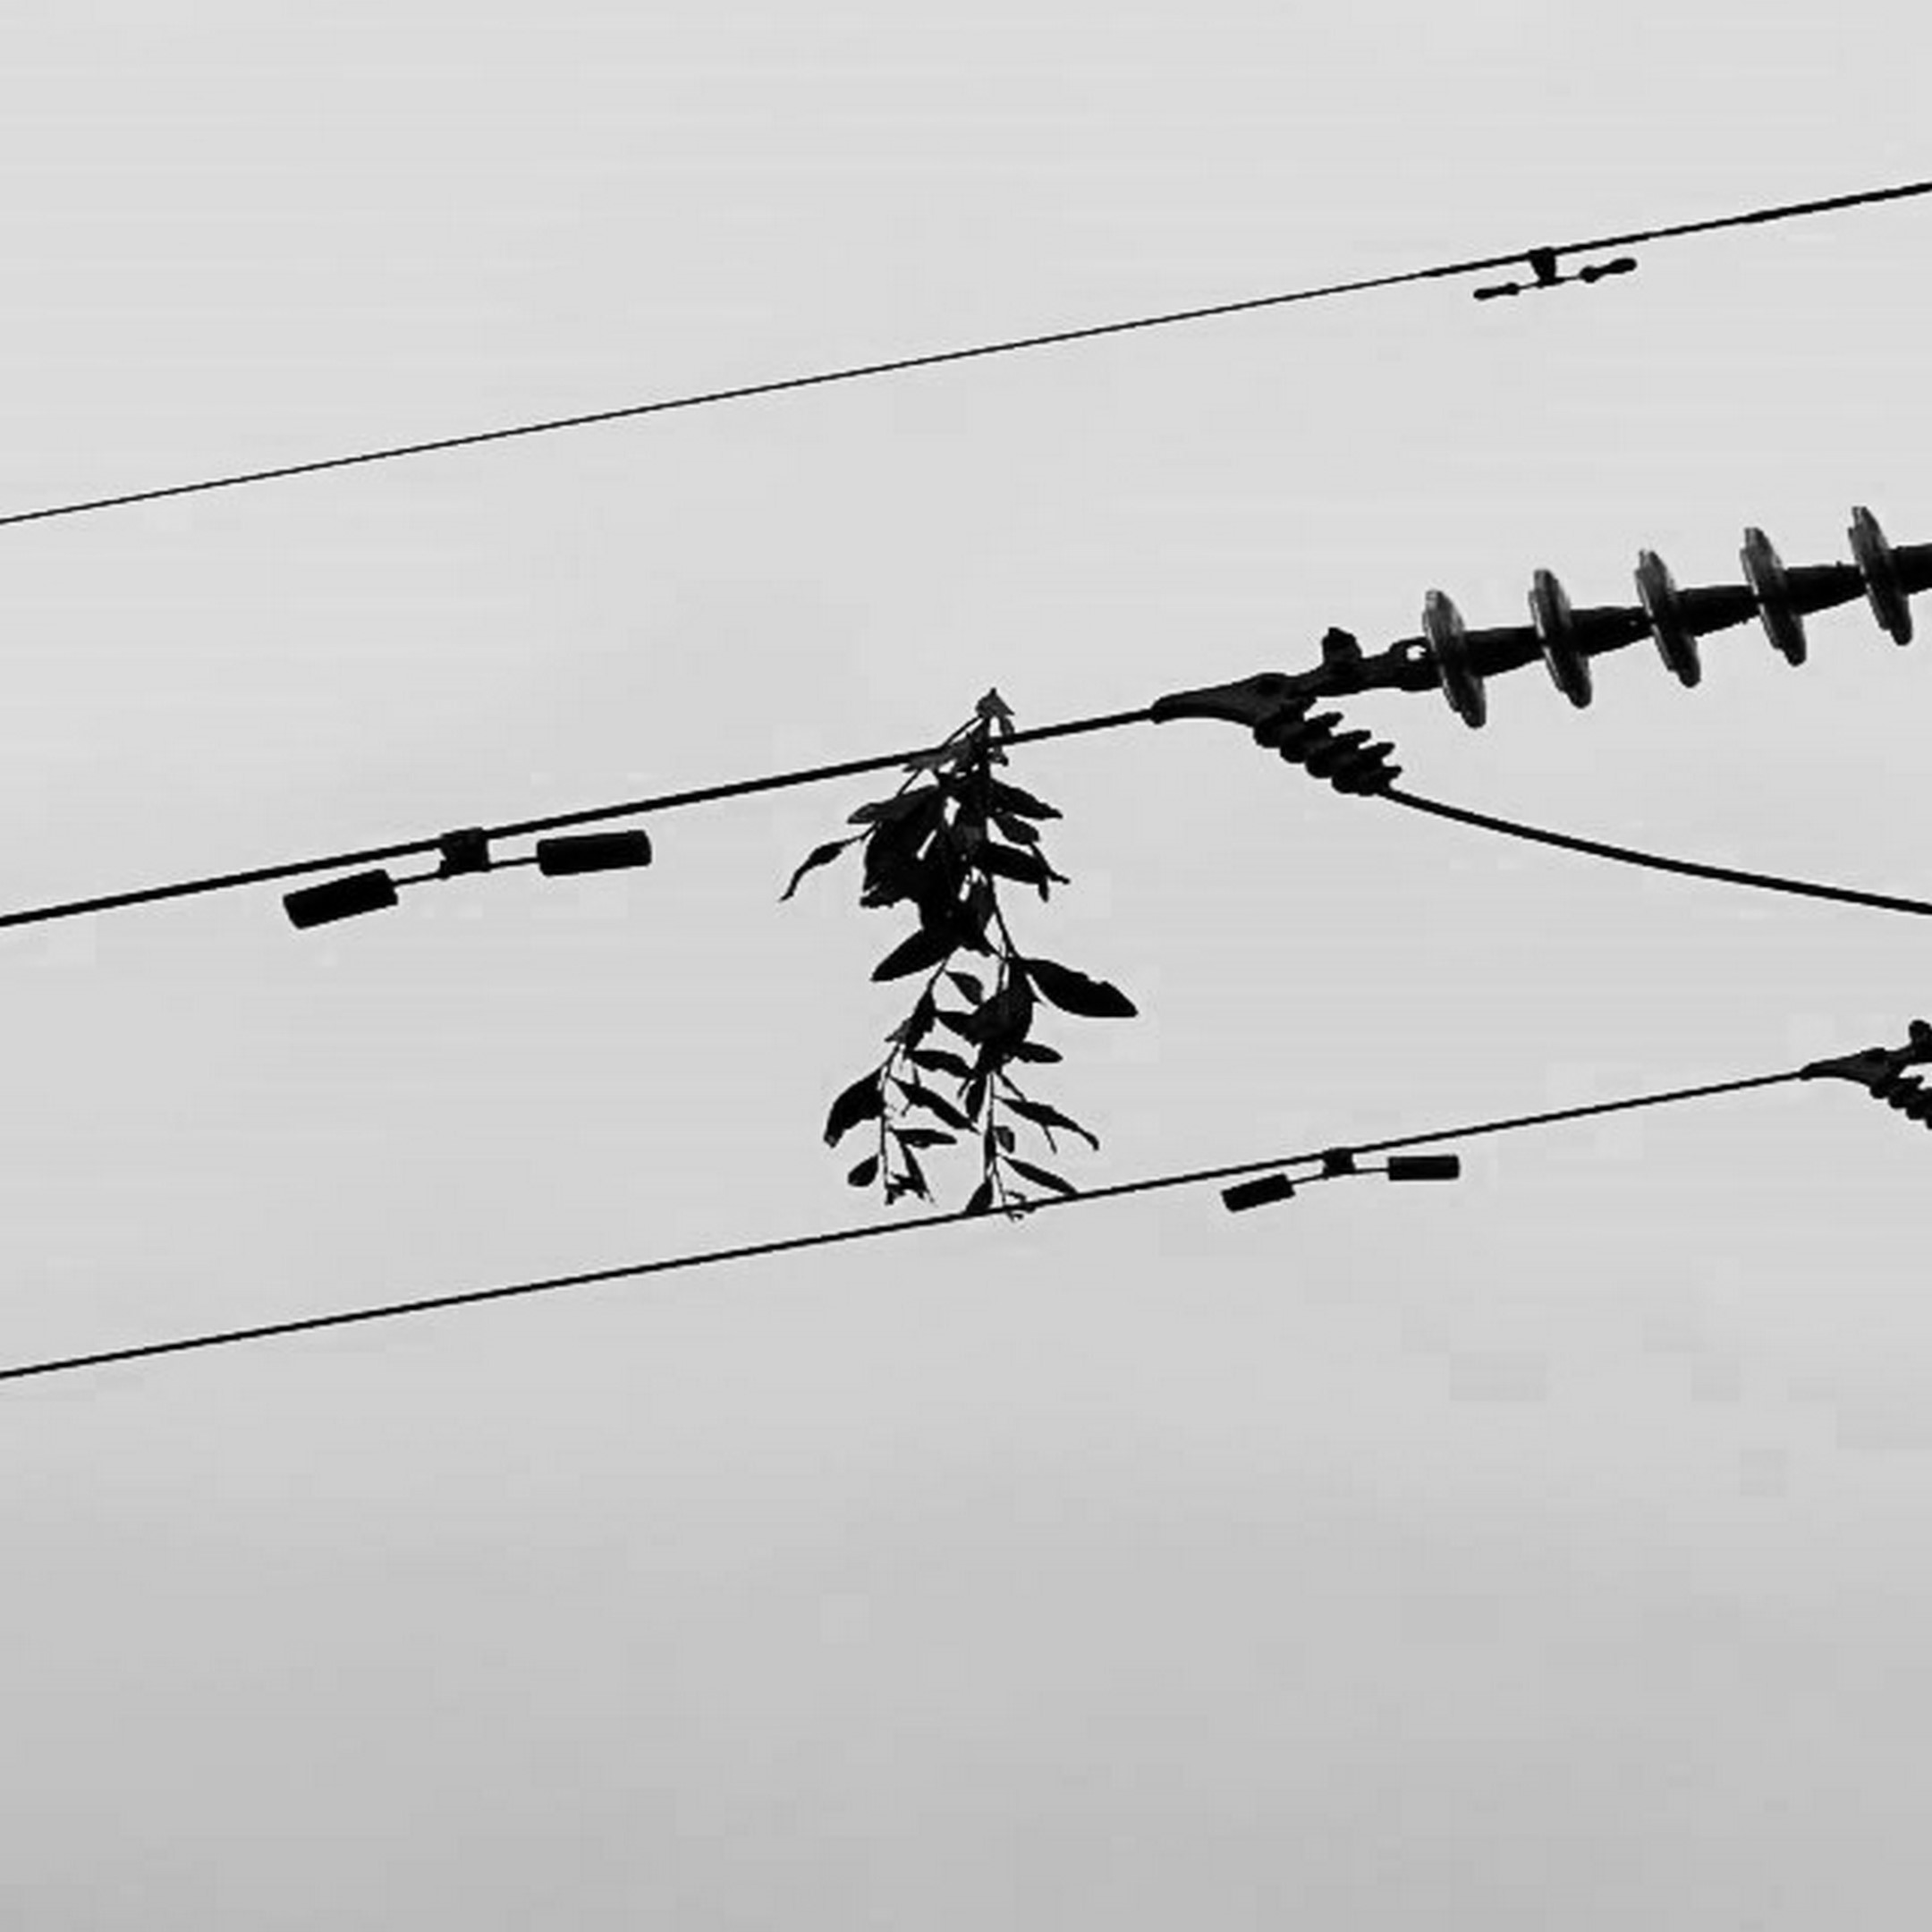wire foreign body: (759, 660, 1154, 1235)
